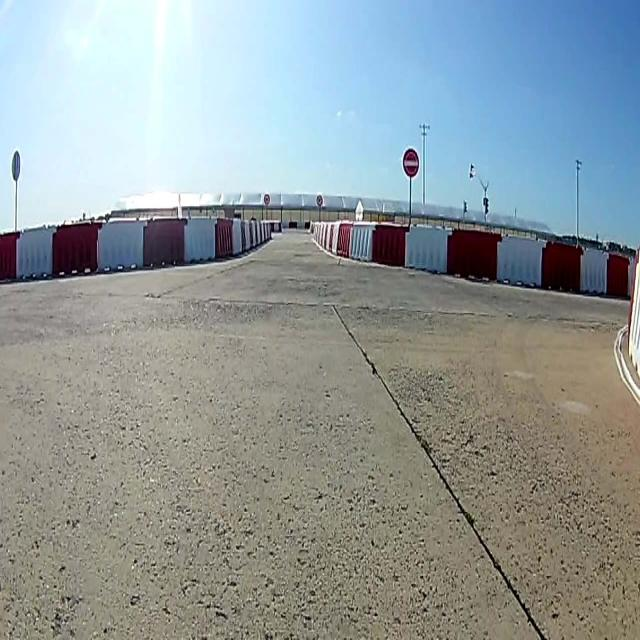girisyok: (401, 145, 419, 178)
